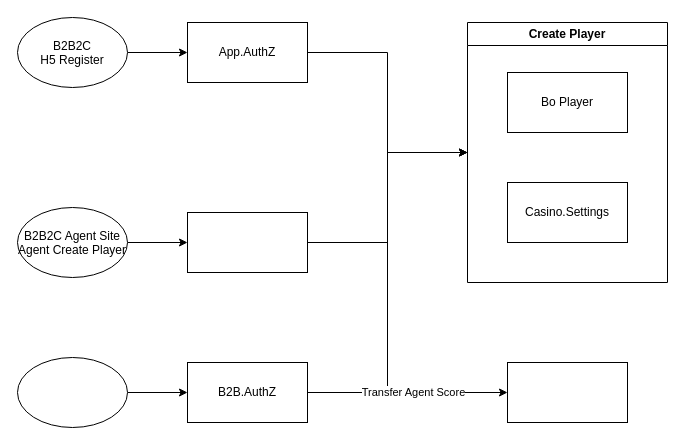
Some shapes in this 685 by 445 pixel diagram are drawn without their labels. Here are the shapes that lost their labels. From the top down, the centre of each, then its label:
the point at 247,242: B2C.AuthZ
the point at 72,392: B2B Agent Site Agent Create Player
the point at 567,392: Score.Counter
